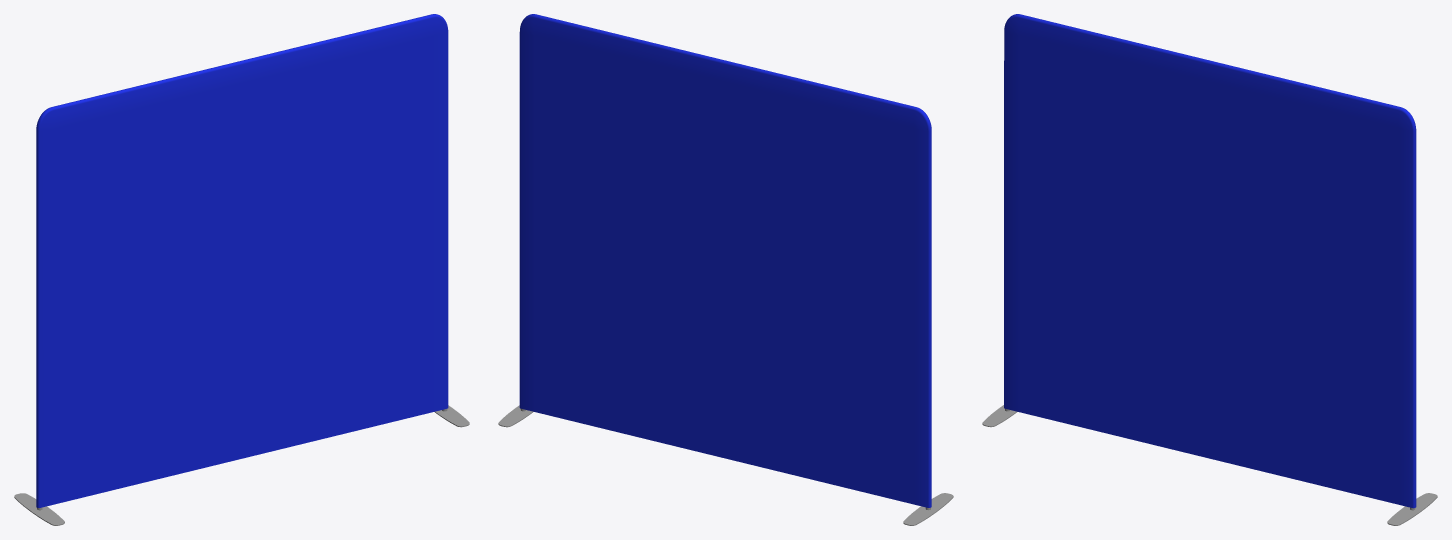
The model's file is 8ftStraight.glb.
3 views of the same model, side by side, from view 1: azimuth 30°, elevation 25°; view 2: azimuth 150°, elevation 25°; view 3: azimuth 330°, elevation 25° (orthographic).
Parts seen in each view (by area): view 1: 8ft Quickzip Straight; view 2: 8ft Quickzip Straight; view 3: 8ft Quickzip Straight.
Boxes of the visible parts, box(x1,y1,x2,y2) form: 8ft Quickzip Straight: box(14, 14, 469, 525); 8ft Quickzip Straight: box(498, 14, 953, 525); 8ft Quickzip Straight: box(982, 14, 1437, 525).
Size of the model in its own units: 2.5 by 2.26 by 0.4301.
